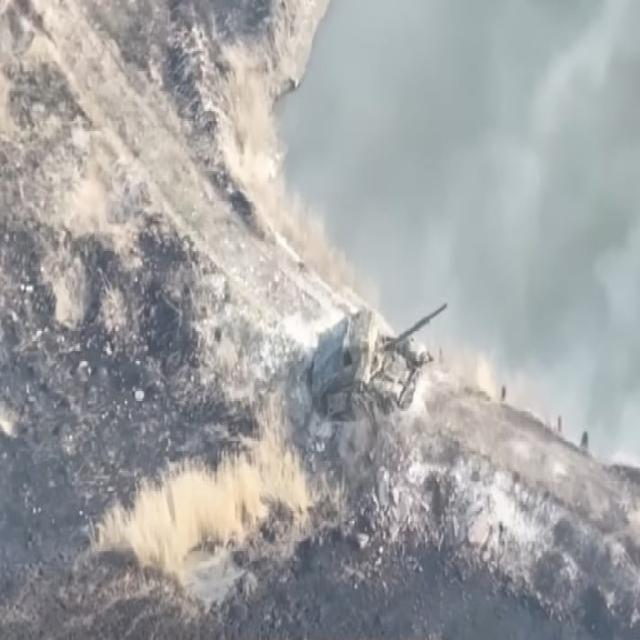TANK: (308, 296, 450, 428)
